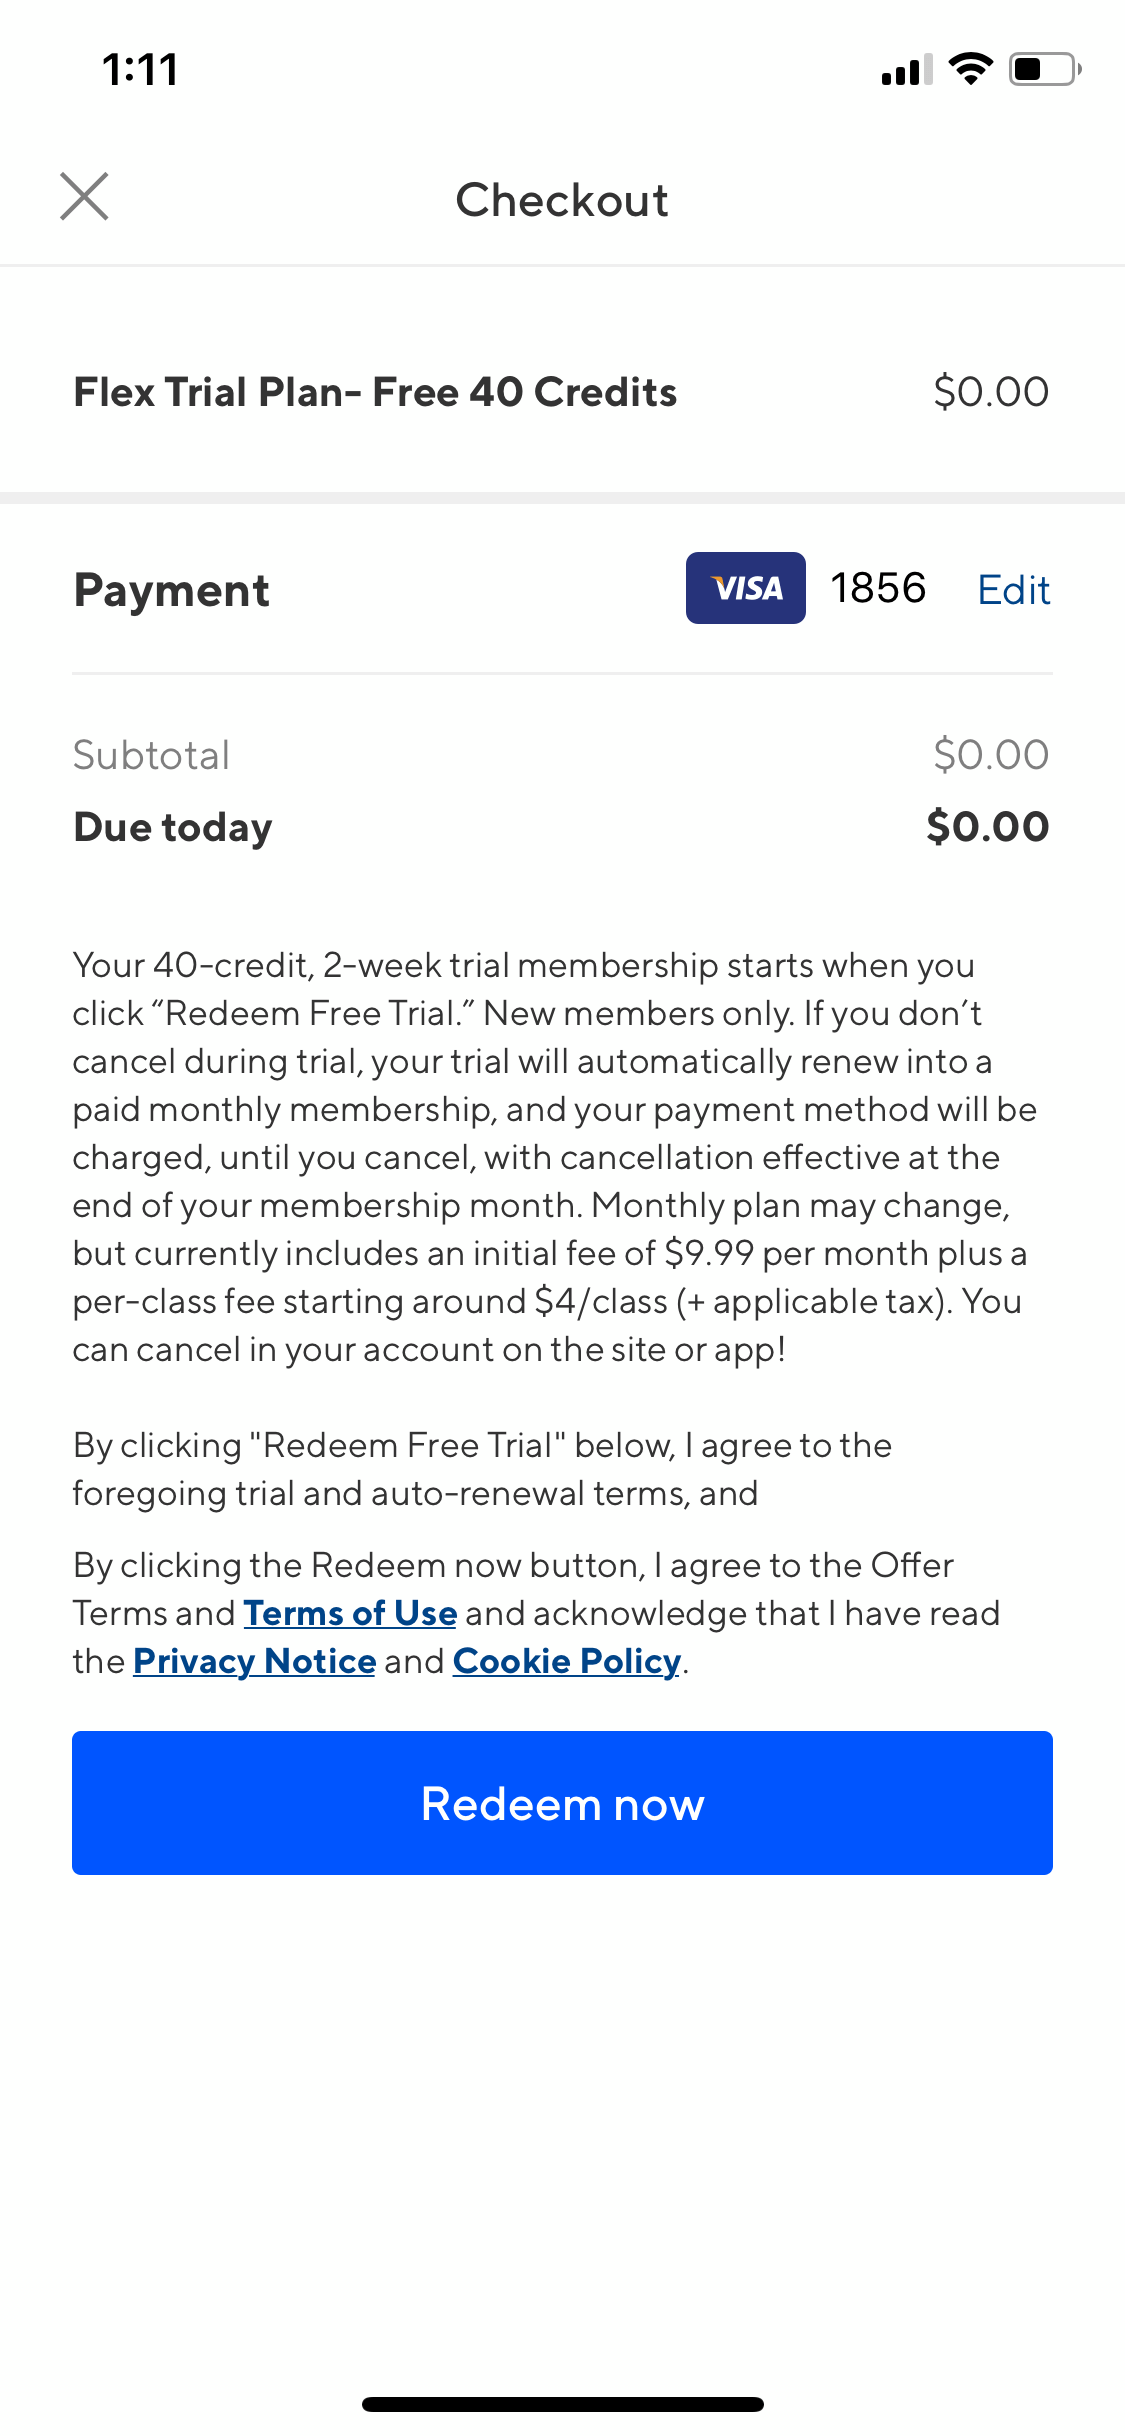Buttons: (44, 1706, 1078, 1902), (23, 127, 143, 250), (953, 541, 1077, 629)
